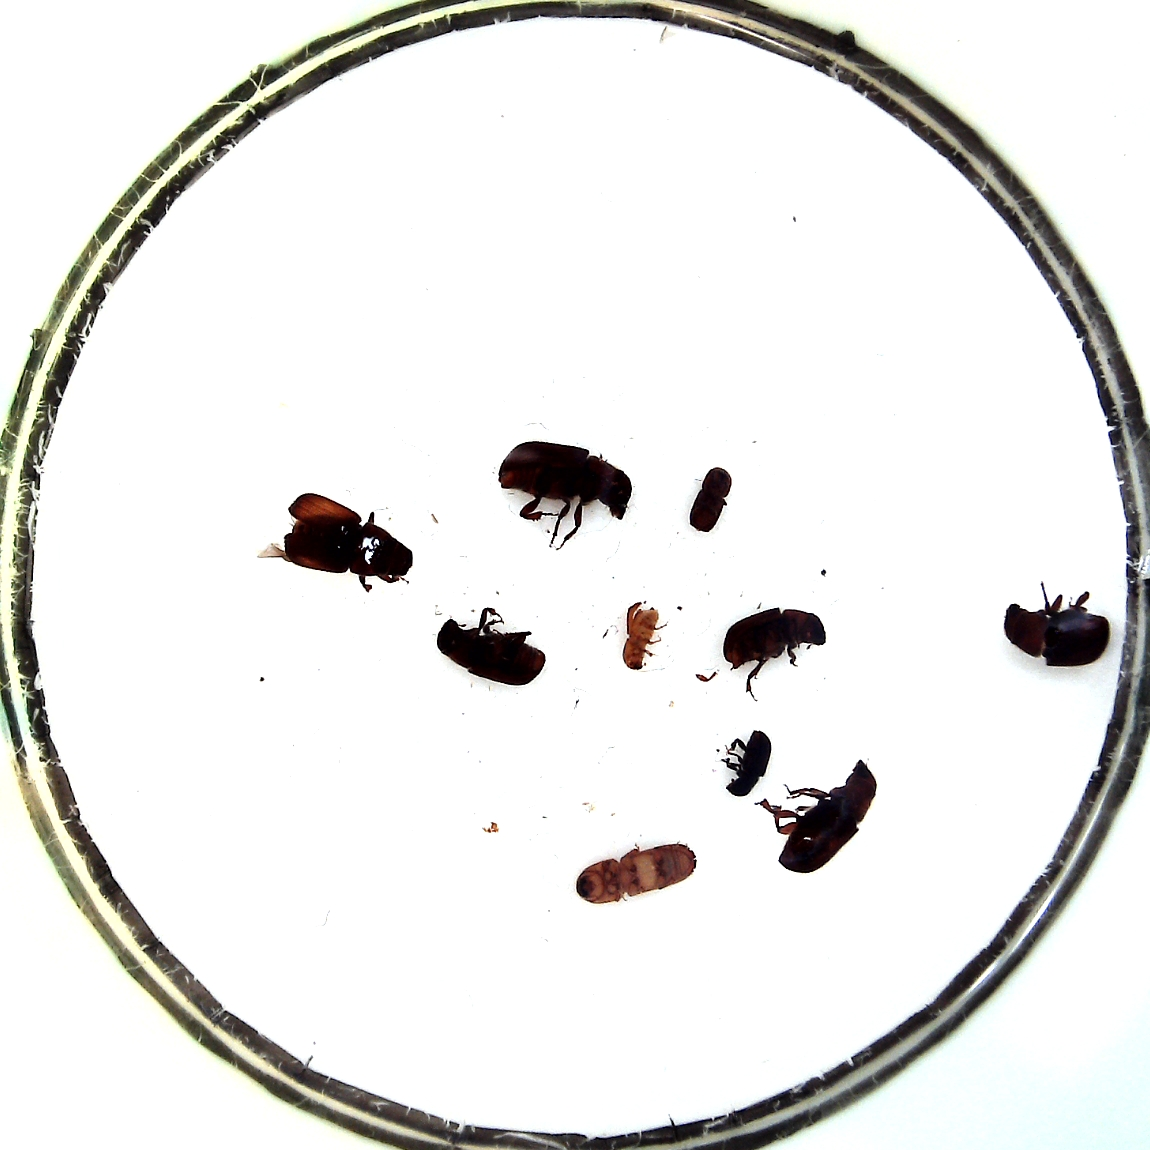Boerner: (571, 842, 698, 906)
Leconte: (496, 440, 633, 547), (271, 491, 412, 591), (764, 762, 877, 874), (1003, 580, 1112, 670), (434, 607, 548, 688), (723, 606, 829, 693)
Linnaeus: (686, 464, 733, 536)
acuminatus: (622, 601, 668, 671)
armandi: (726, 730, 773, 798)
